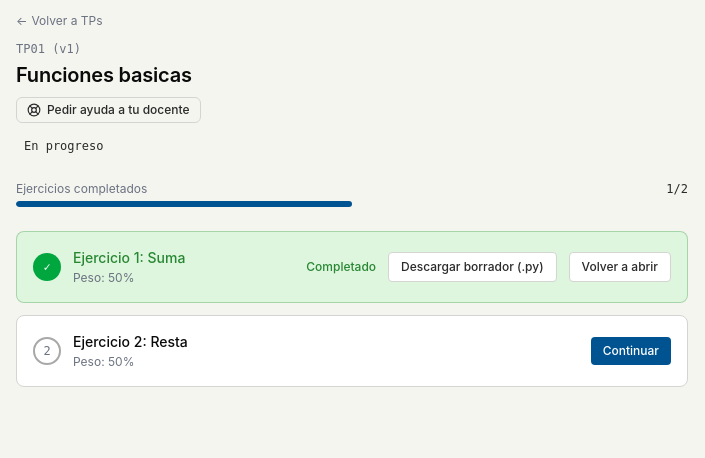
it: ExerciseListView › descarga de episodio cerrado (ADE-02) › muestra error sin romper la lista cuando falla la carga del episodio
Click the button with test id "ejercicio-descargar-1".
click(472, 267)  # box [388,252,557,282]
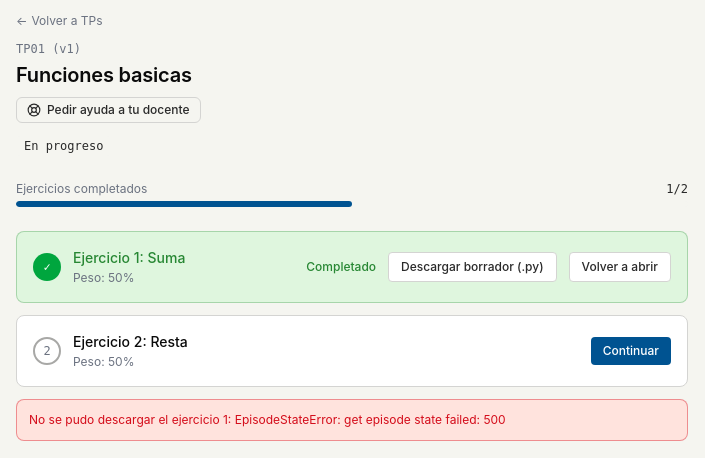
Expected: the list item with test id "ejercicio-item-2" is shown, [16,315,688,387]
Expected: the text with test id "descarga-error" is shown, [16,399,688,441]
